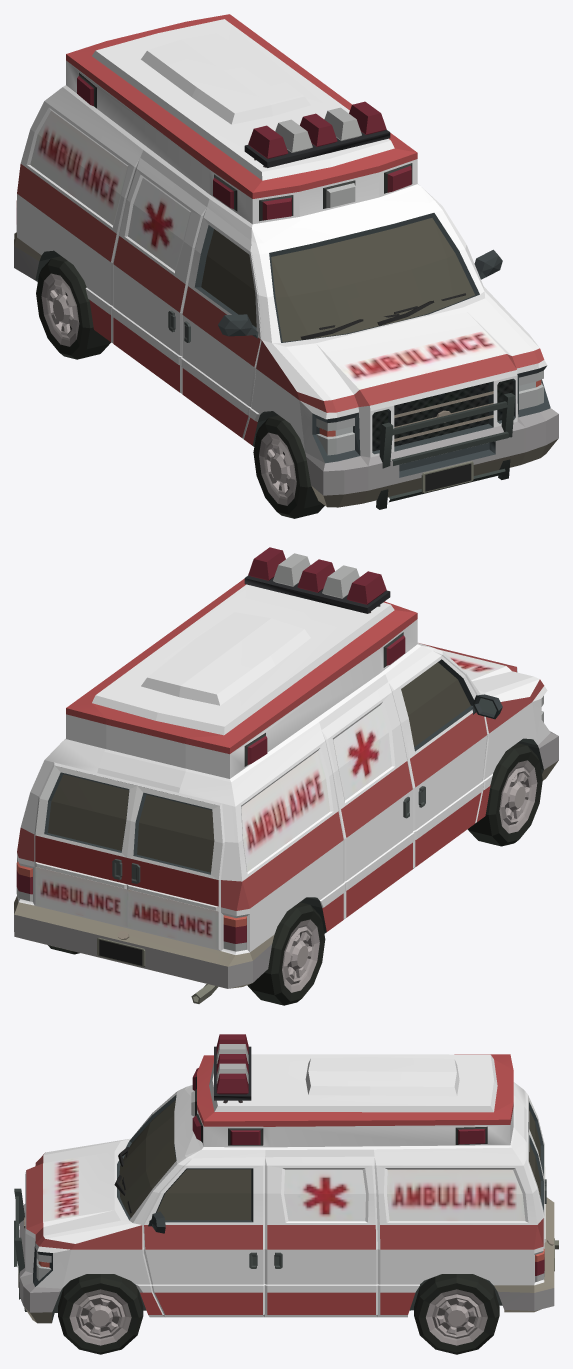
Rendered from Ambulance.glb.
The picture shows the model from 3 angles, top to bottom: view 1: azimuth 30°, elevation 25°; view 2: azimuth 150°, elevation 25°; view 3: azimuth 270°, elevation 25°; orthographic projection. The views are drawn at different scales.
Visible parts, largest first — view 1: Ambulance; view 2: Ambulance; view 3: Ambulance.
Boxes of the visible parts, left/top/right/bottom form: Ambulance: left=14, top=14, right=558, bottom=518; Ambulance: left=14, top=547, right=558, bottom=1005; Ambulance: left=14, top=1034, right=558, bottom=1354.
Size of the model in its own units: 0.0125 by 0.0131 by 0.0257.
1 material, 1 textured.
